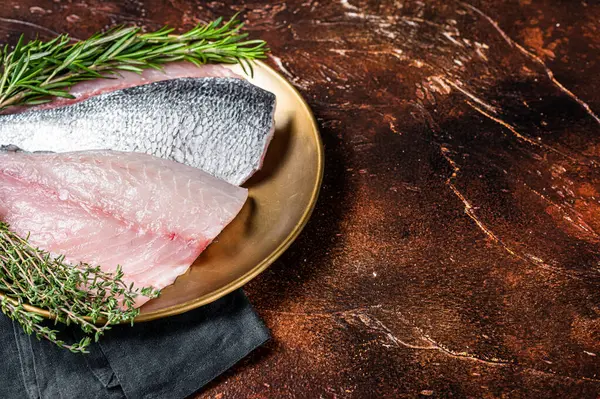bream-fish: (0, 150, 249, 292)
